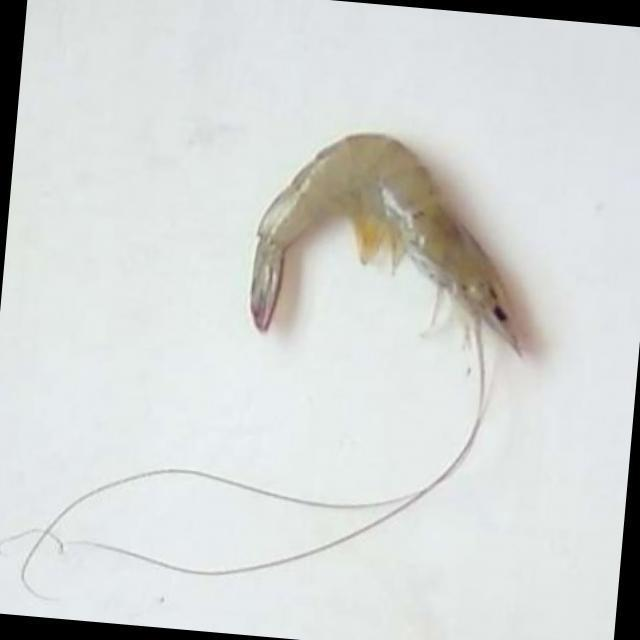shrimp: (250, 133, 520, 350)
